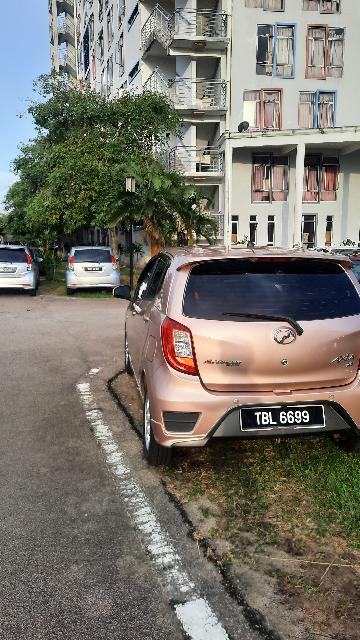License_Plate: (237, 397, 334, 439)
car: (114, 247, 360, 458)
